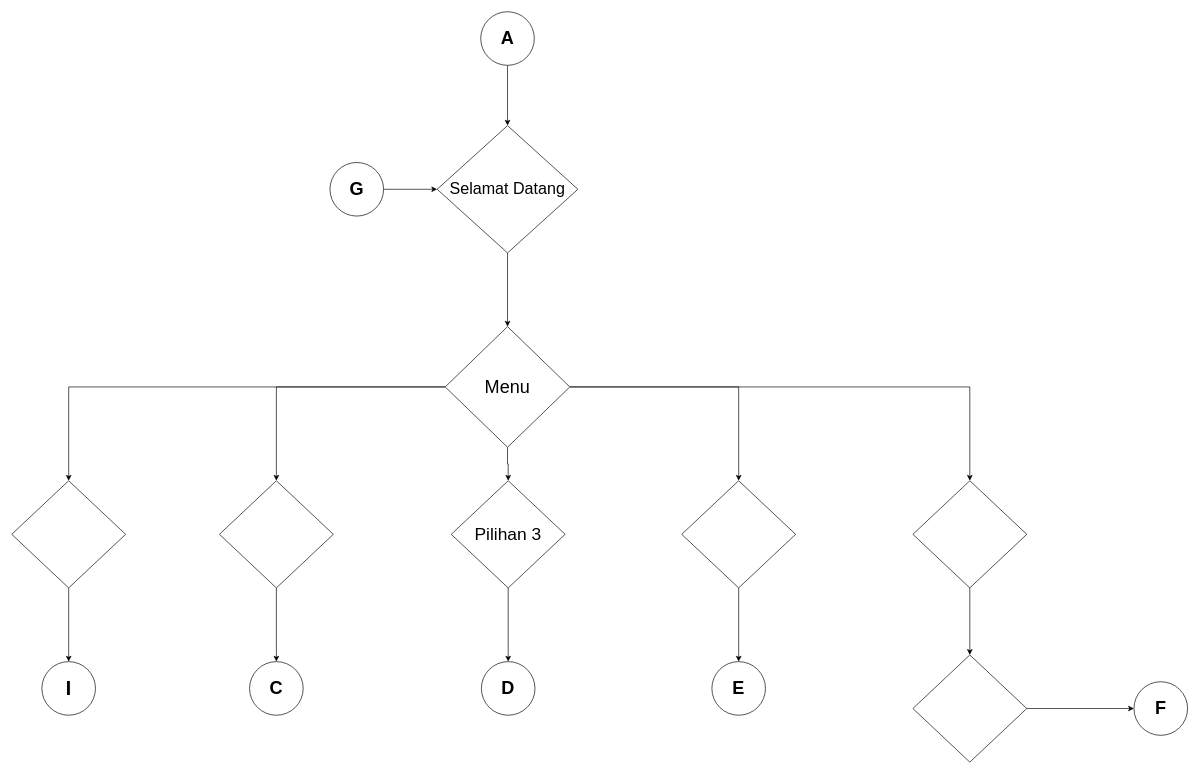
The diagram is 1199 pixels wide and 774 high, and some of its shapes have lost their labels. The centre of each missing label's shape, as x and y in pixels:
"Log Out" goes at point 969,708.
"Pilihan 1" goes at point 68,534.
"Pilihan 2" goes at point 276,534.
"Pilihan 4" goes at point 738,534.
"Pilihan 5" goes at point 969,534.
